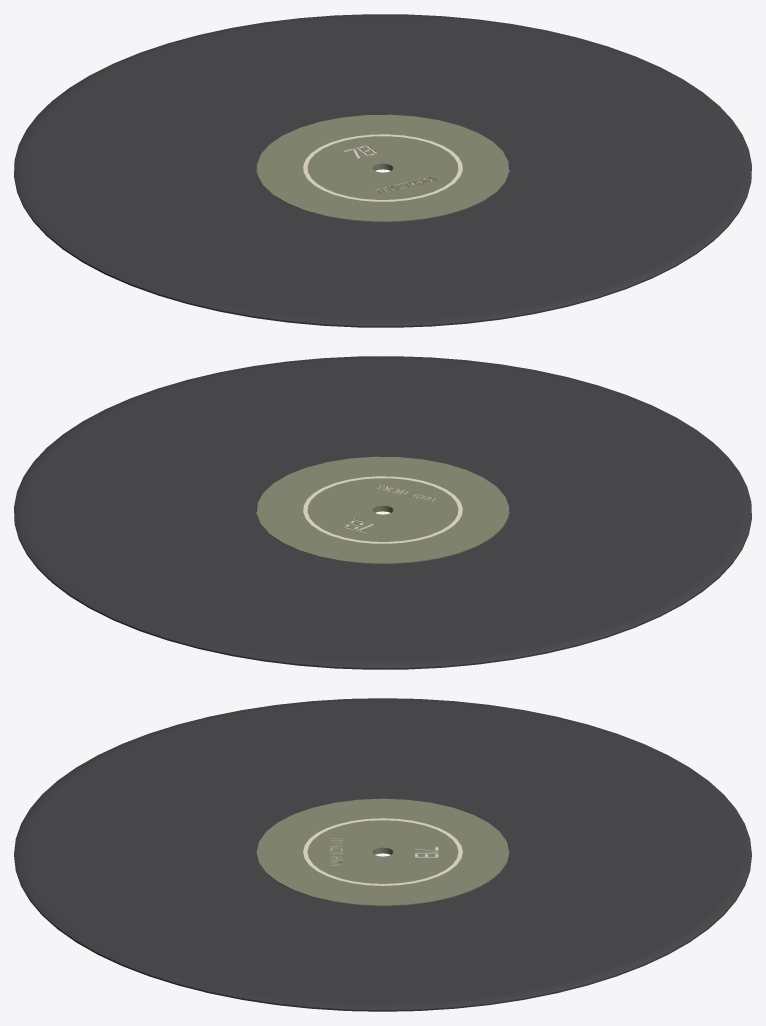
The model's file is record_susanna.glb.
The picture shows the model from 3 angles, top to bottom: view 1: azimuth 30°, elevation 25°; view 2: azimuth 150°, elevation 25°; view 3: azimuth 270°, elevation 25°; orthographic projection.
Visible parts, largest first — view 1: disc, label; view 2: disc, label; view 3: disc, label.
Part boxes in pixels (x1,y1,x2,y2): disc: (14, 14, 751, 327); label: (256, 114, 509, 221); disc: (14, 356, 751, 669); label: (256, 456, 509, 563); disc: (14, 698, 751, 1011); label: (256, 798, 509, 905).
Bounding box in the file's own units: 0.254 × 0.0028 × 0.254.
